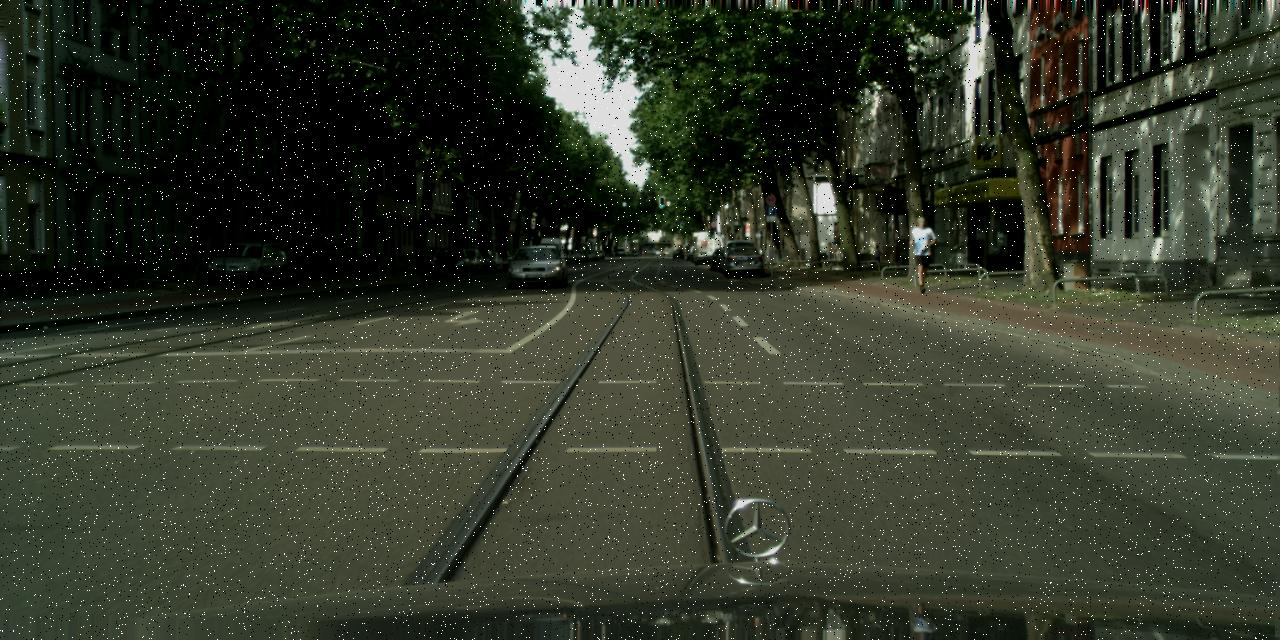ped: (906, 216, 936, 292), (872, 244, 882, 268)
